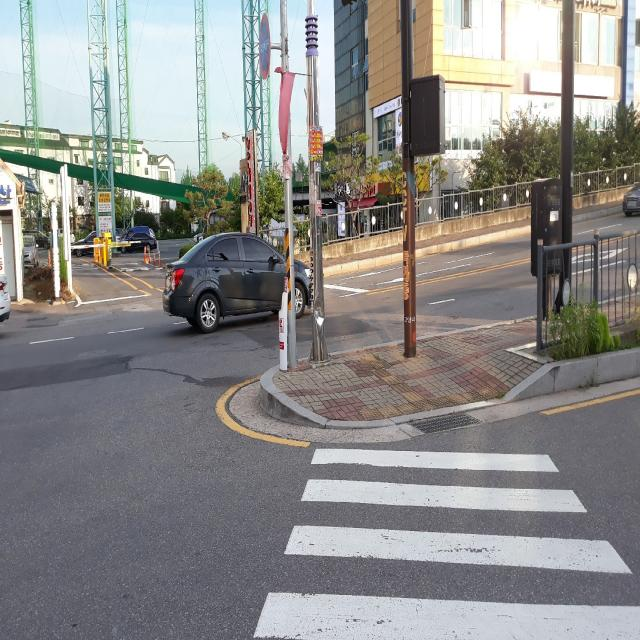횡단보도: (253, 448, 640, 640)
